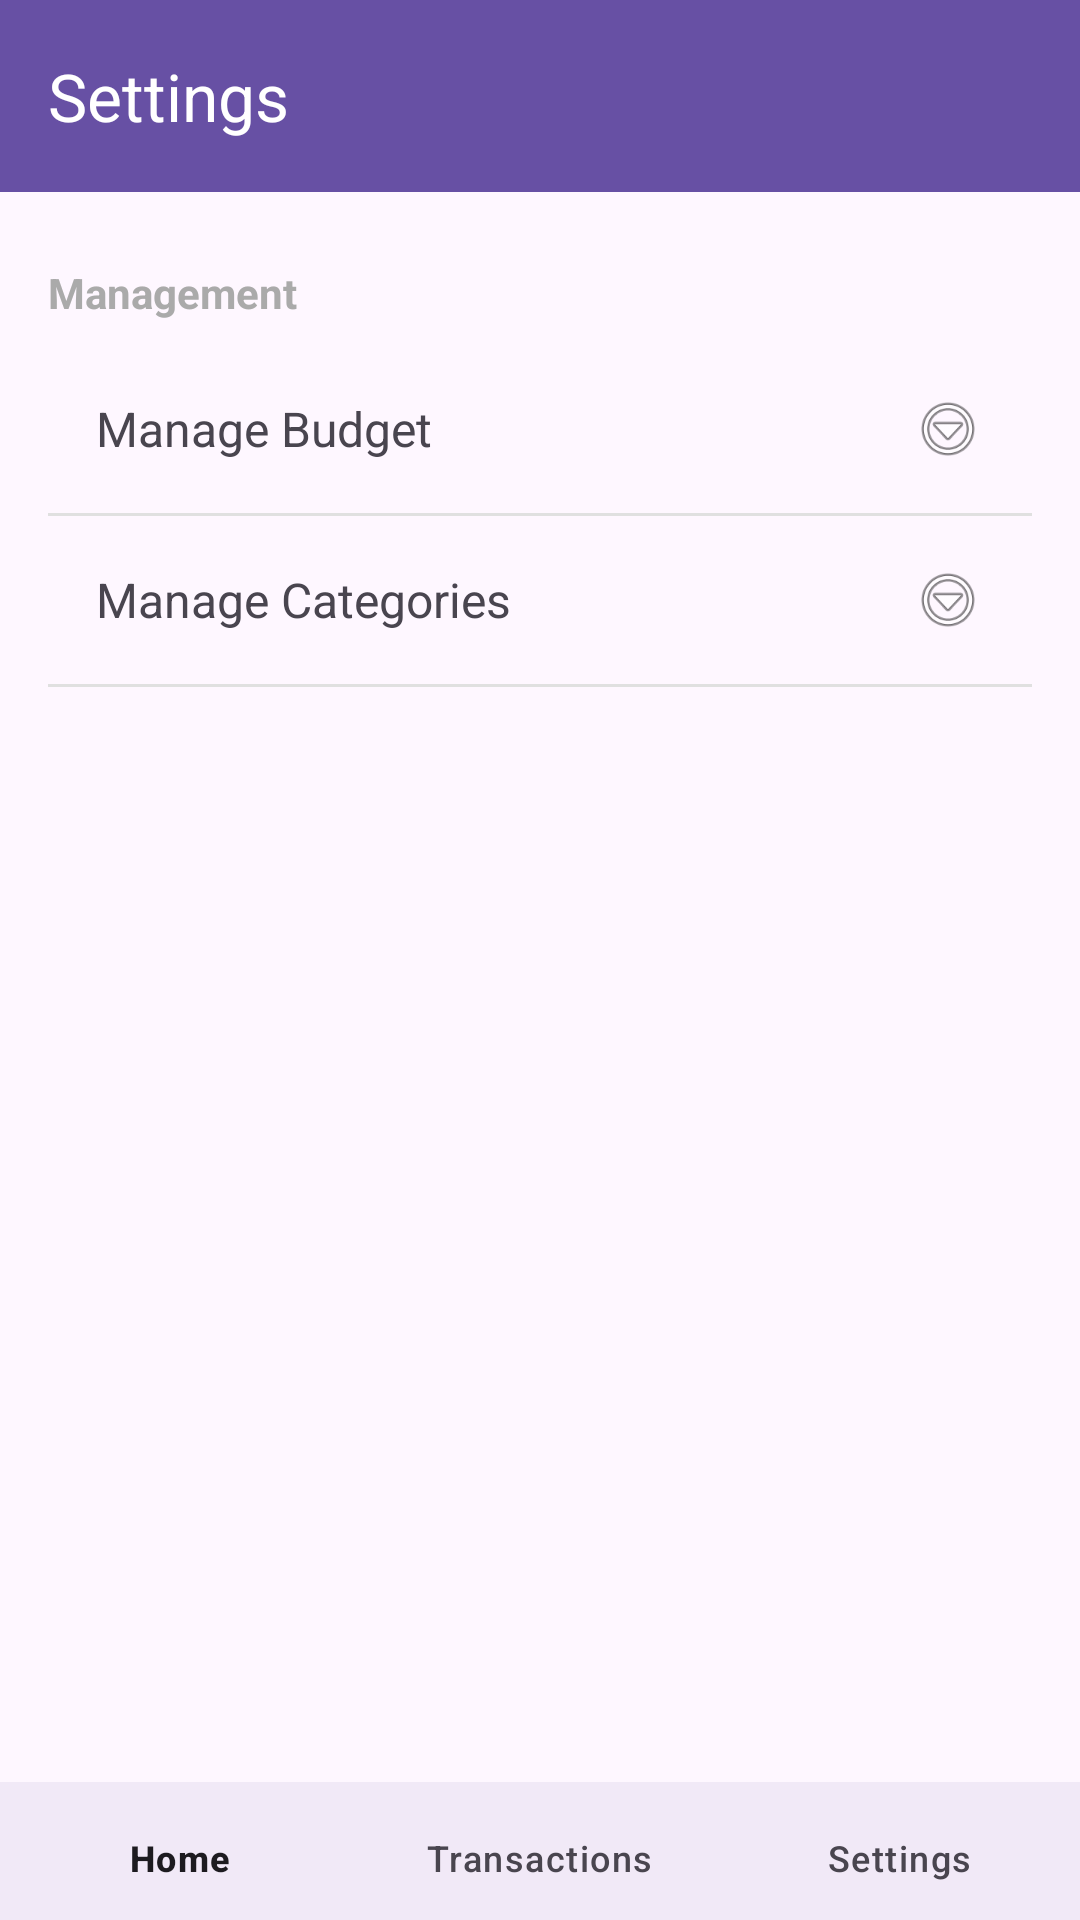

Icon bounding boxes for this 1080 x 1920 phone screenshot, format {"x1": x1, "y1": y1, "x2": x2, "y2": y2}:
Navigate: {"x1": 921, "y1": 402, "x2": 975, "y2": 456}, {"x1": 921, "y1": 573, "x2": 975, "y2": 627}
